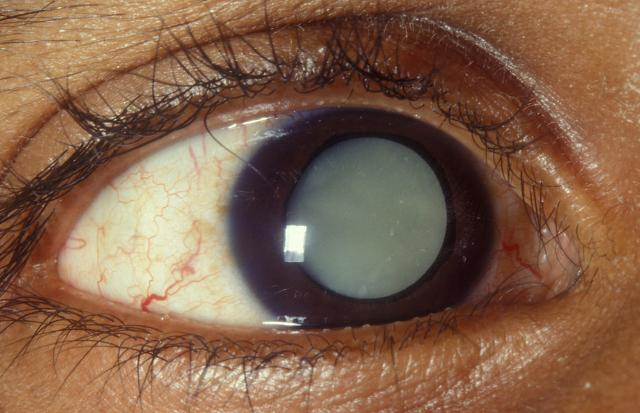eye: (228, 100, 498, 332)
